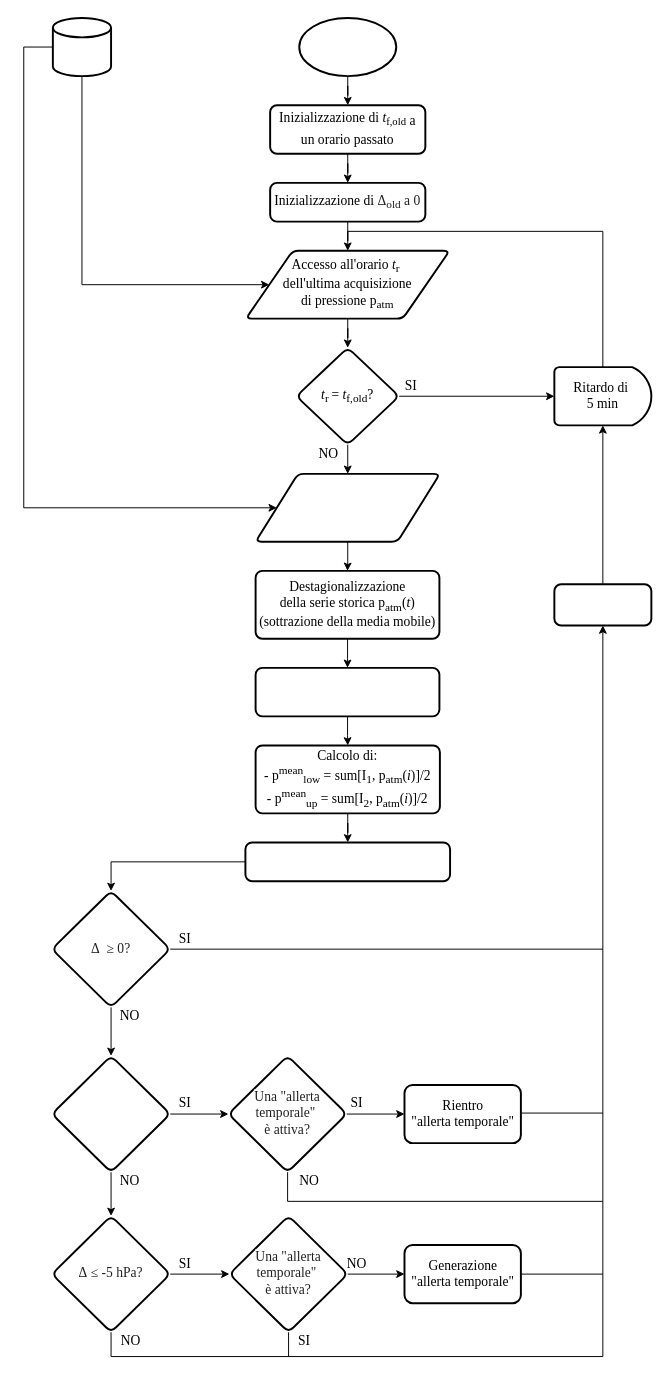
The diagram is 669 pixels wide and 1381 high, and some of its shapes have lost their labels. The box of each missing label's shape, as (x1, y1, x2, y2) in pixels:
Accesso ai dati di p atm ( t ) delle ultime 24 ore: (254, 472, 440, 542)
Calcolo di Δ = p mean up - p mean low: (244, 841, 451, 882)
DB: (51, 16, 112, 77)
Definizione degli intervalli temporali I 1 e I 2: (254, 666, 440, 717)
INIZIO: (298, 16, 397, 77)
t f,old = t f Δ old = Δ: (553, 583, 652, 626)
Δ > Δ old ?: (50, 1054, 171, 1173)
